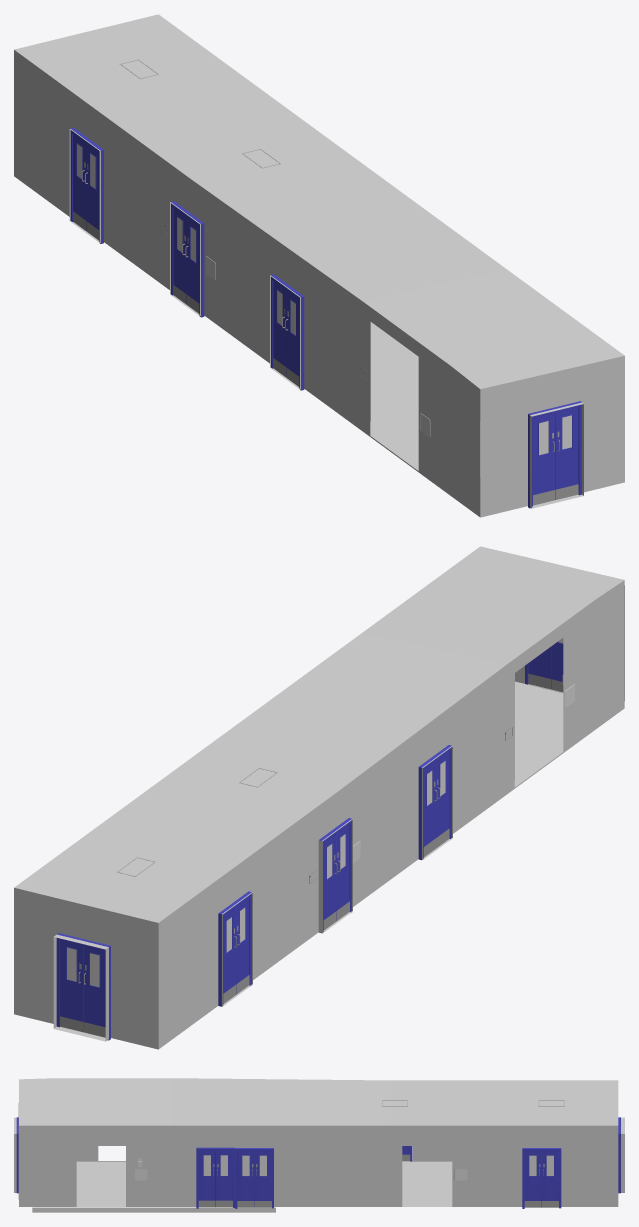
The model's file is CORRIDOR_SCENE.fbx.
3 renders of one model, top to bottom at view 1: azimuth 30°, elevation 25°; view 2: azimuth 150°, elevation 25°; view 3: azimuth 270°, elevation 25°, orthographic. The views are drawn at different scales.
Parts seen in each view (by area): view 1: CORRIDOR2, door_2 (×4), door_1 (×4), doorframe (×4); view 2: CORRIDOR2, door_2 (×4), door_1 (×4), doorframe (×3); view 3: CORRIDOR2, door_2 (×3), door_1 (×3), doorframe (×5), ____floor51.
Part boxes in pixels (bbox=[...]): CORRIDOR2: bbox=[14, 14, 624, 517]; door_2 (×4): bbox=[73, 134, 578, 499]; door_1 (×4): bbox=[85, 144, 555, 494]; doorframe (×4): bbox=[70, 127, 581, 508]; CORRIDOR2: bbox=[14, 546, 624, 1049]; door_2 (×4): bbox=[60, 761, 437, 1031]; door_1 (×4): bbox=[83, 751, 449, 1027]; doorframe (×3): bbox=[56, 745, 451, 1040]; CORRIDOR2: bbox=[14, 1078, 624, 1206]; door_2 (×3): bbox=[215, 1151, 558, 1207]; door_1 (×3): bbox=[198, 1151, 541, 1200]; doorframe (×5): bbox=[16, 1117, 620, 1208]; ____floor51: bbox=[32, 1207, 275, 1212].
Bounding box in the file's own units: 357 × 303 × 1899.
